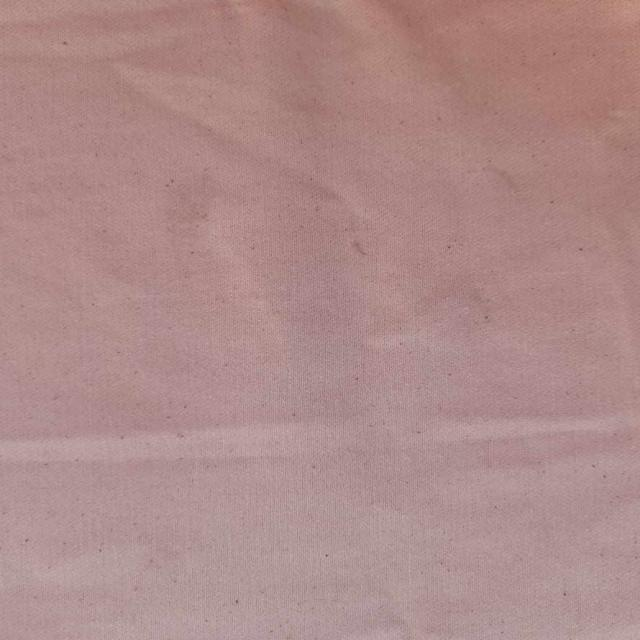taaaches: (162, 175, 232, 239), (348, 236, 370, 262)
